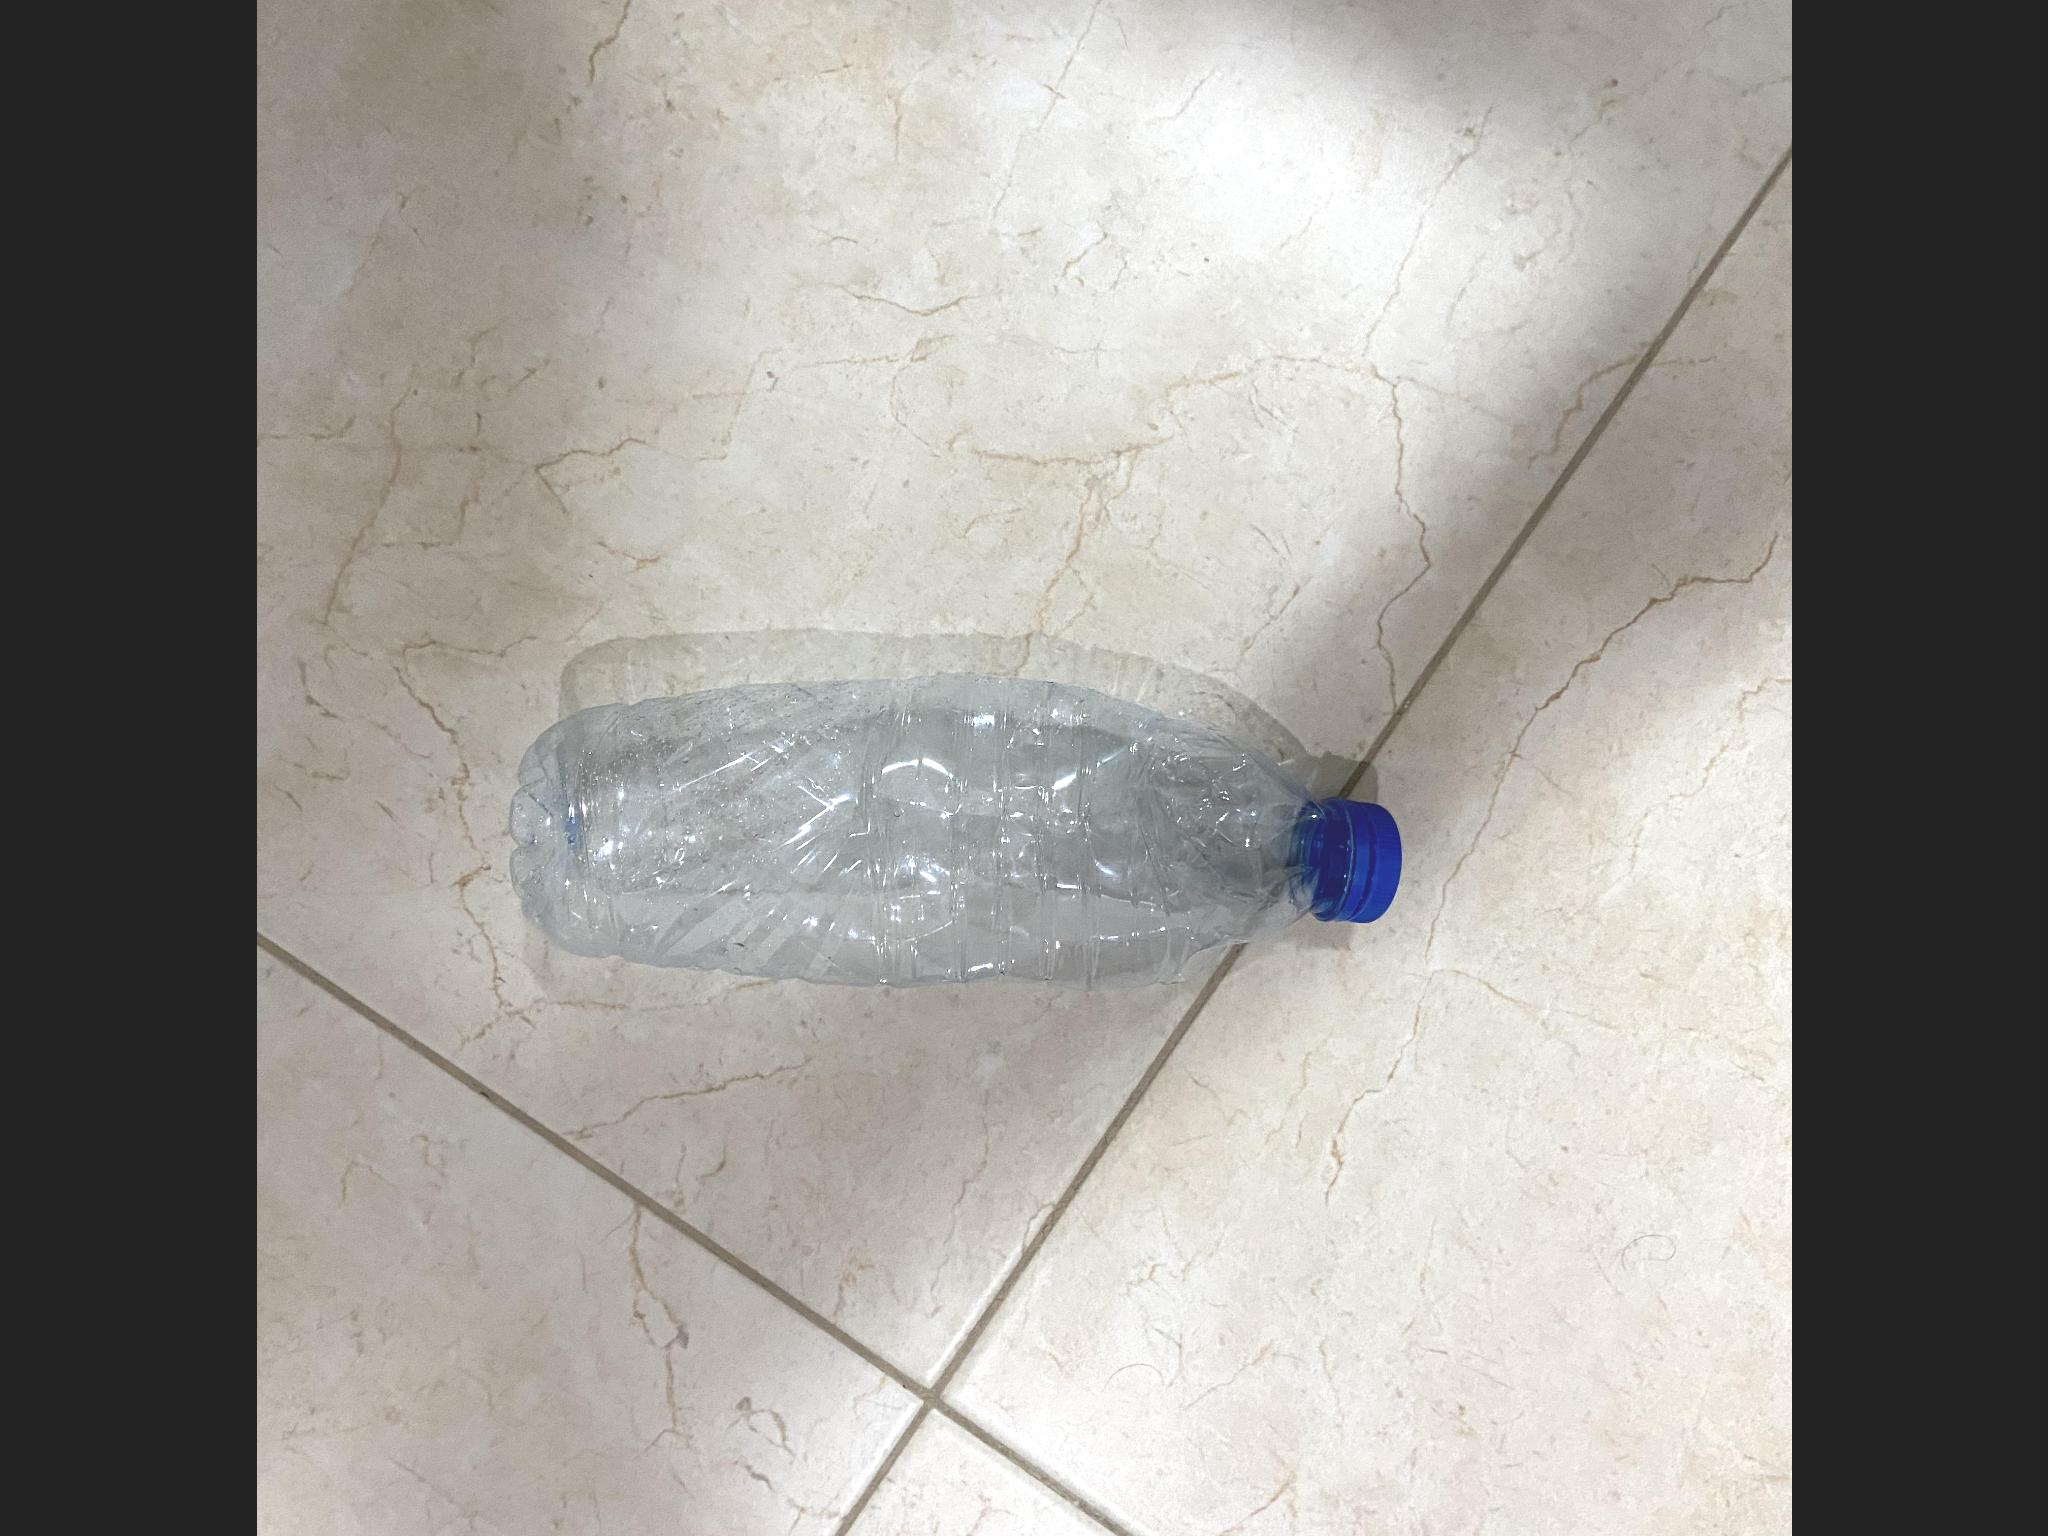bottle: (497, 668, 1400, 1000)
